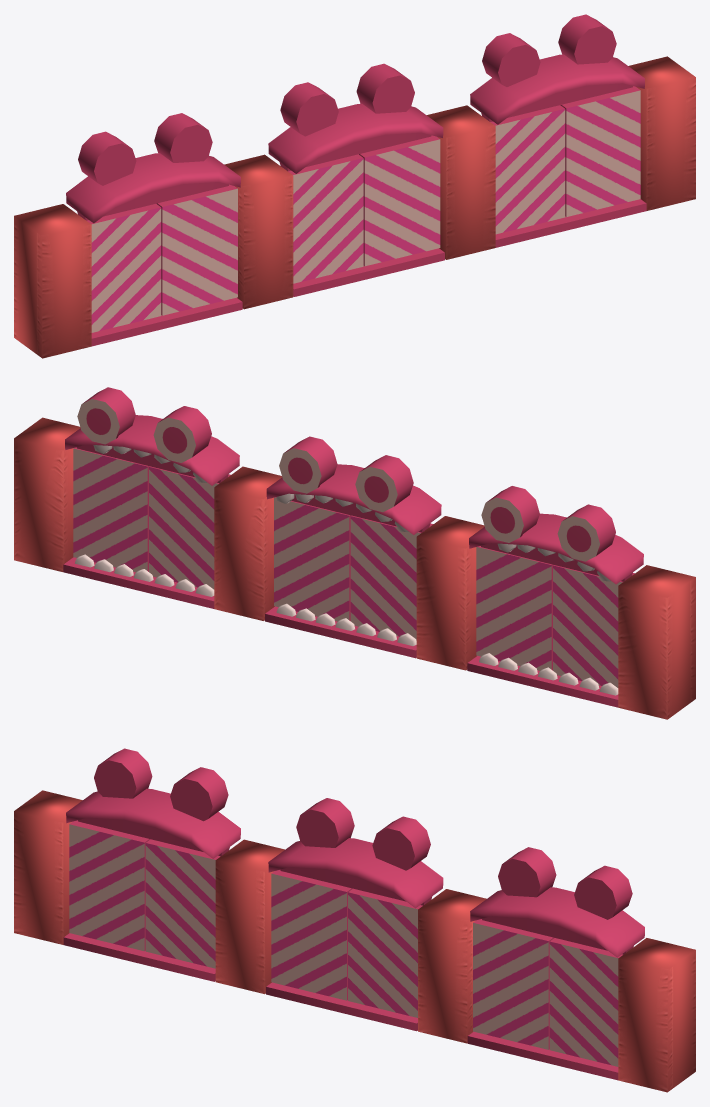
File: OBS0110002.fbx
The picture shows the model from 3 angles, top to bottom: view 1: azimuth 30°, elevation 25°; view 2: azimuth 150°, elevation 25°; view 3: azimuth 330°, elevation 25°; orthographic projection.
Visible parts, largest first — view 1: smOBS0110002; view 2: smOBS0110002; view 3: smOBS0110002.
Part boxes in pixels (left/top/right/bottom): smOBS0110002: left=14, top=14, right=695, bottom=358; smOBS0110002: left=14, top=387, right=695, bottom=719; smOBS0110002: left=14, top=748, right=695, bottom=1092.
Size of the model in its own units: 1220 by 325 by 97.99.
Materials: 1 (1 with a texture image).
